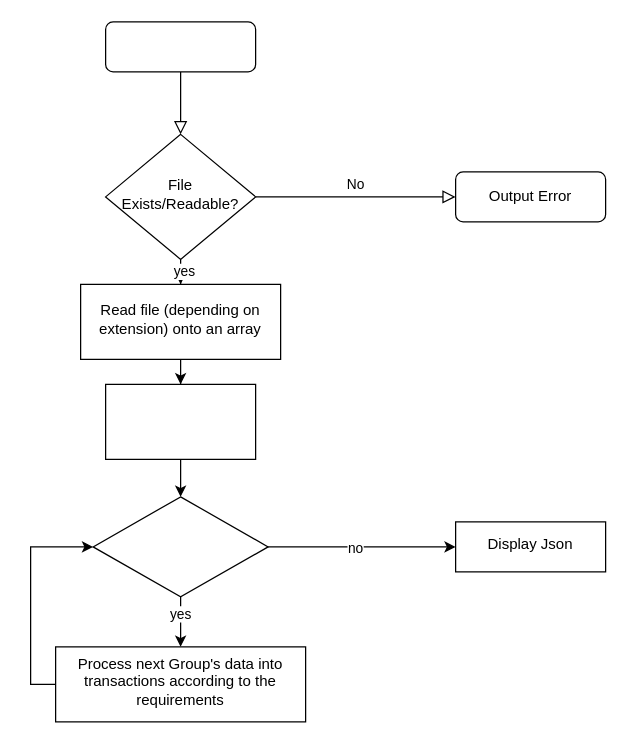
Image size: 628x744. Some labels were removed from this diagram. Here are the shapes that lost their labels. From the top down, the box of each, then its label:
(104, 21, 256, 72): Run CMD
(104, 383, 256, 459): Group Data By Date
(92, 496, 268, 597): Group Data Count > 0
